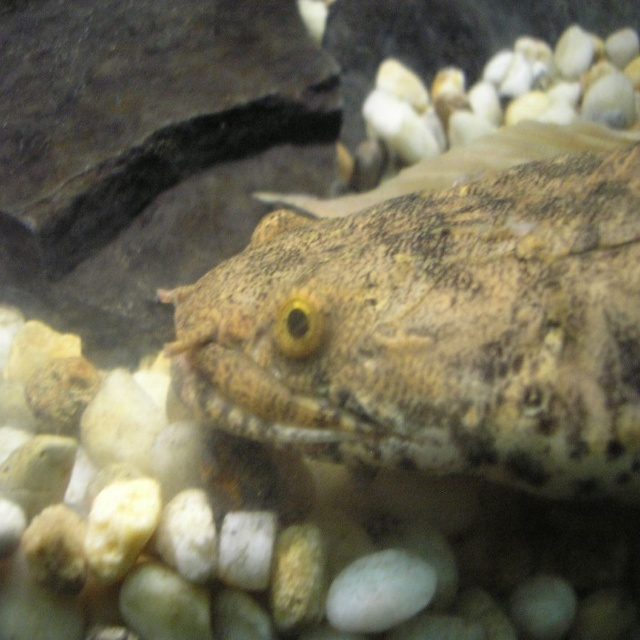Fish: (158, 124, 640, 508)
